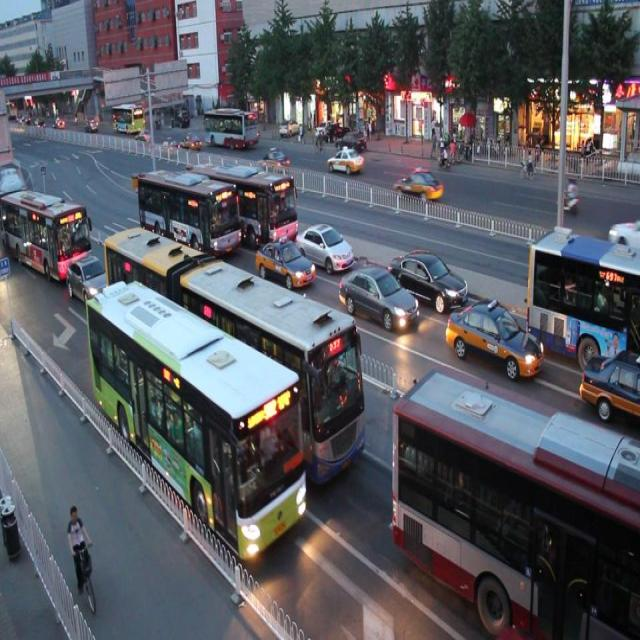car: (446, 294, 544, 382), (337, 258, 416, 331), (390, 243, 468, 309), (578, 342, 640, 416), (588, 241, 640, 314), (253, 230, 314, 289), (294, 214, 352, 273), (67, 253, 114, 306)
van: (102, 218, 366, 482), (392, 366, 640, 640), (86, 281, 306, 560), (526, 224, 640, 359), (136, 160, 240, 262), (191, 153, 298, 248), (1, 182, 90, 272)
